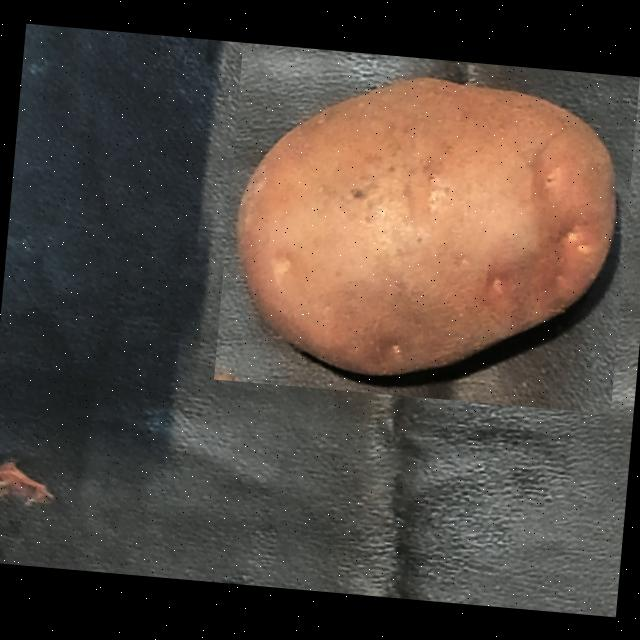Diseased-fungal potato: (212, 42, 638, 414)
